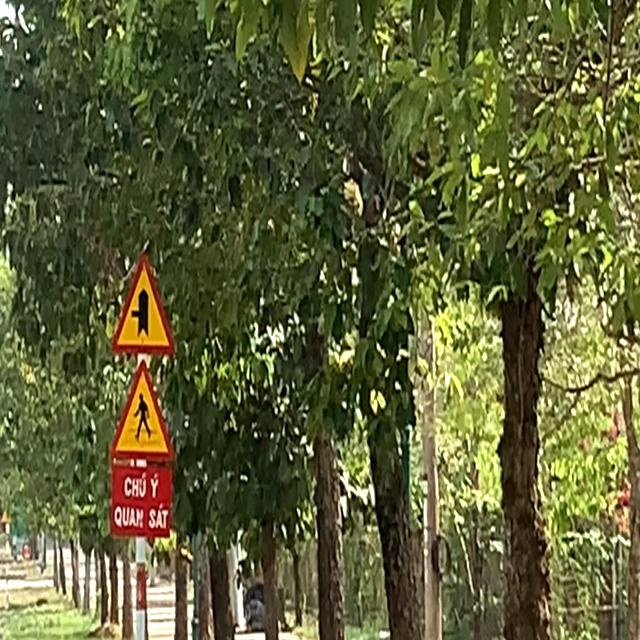bien_nguy_hiem: (109, 248, 177, 359), (110, 354, 176, 468)
